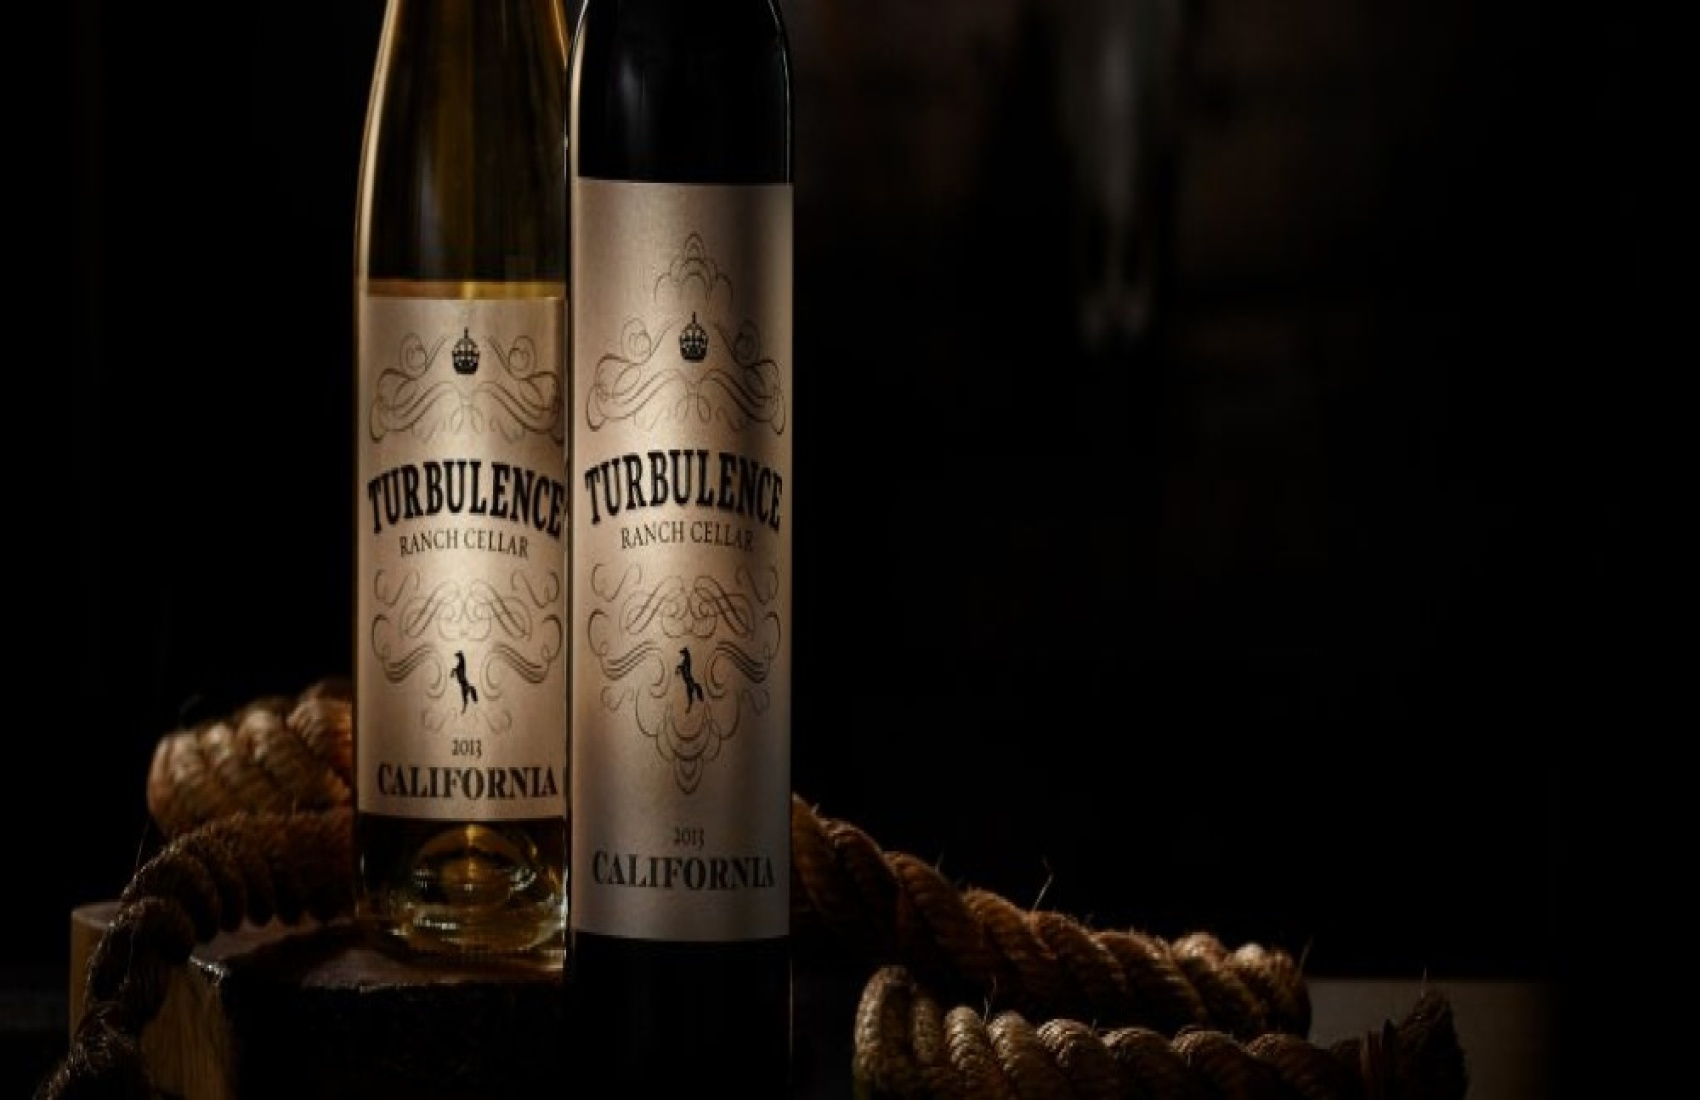wine: (567, 36, 791, 946), (353, 24, 576, 934)
